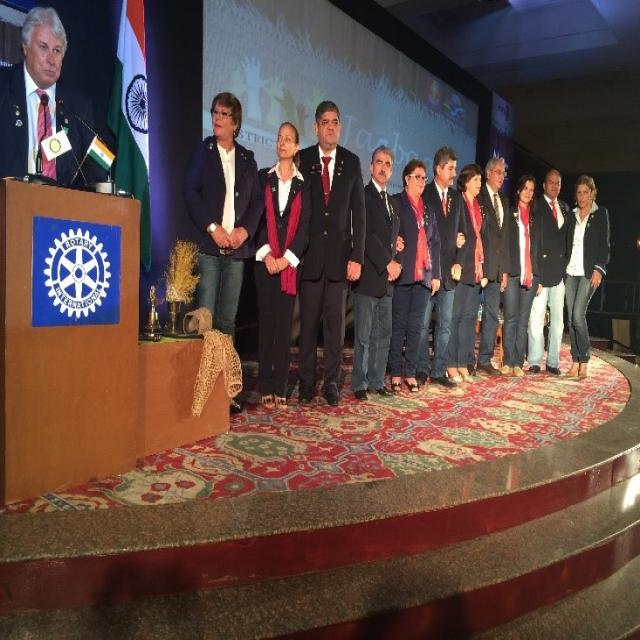body: (293, 98, 366, 408), (0, 4, 113, 193), (188, 90, 263, 336), (250, 120, 312, 411), (413, 142, 472, 390), (348, 142, 404, 403), (387, 157, 442, 393), (560, 172, 613, 381), (441, 160, 490, 386), (526, 166, 576, 376), (498, 168, 541, 380), (476, 156, 513, 378)
